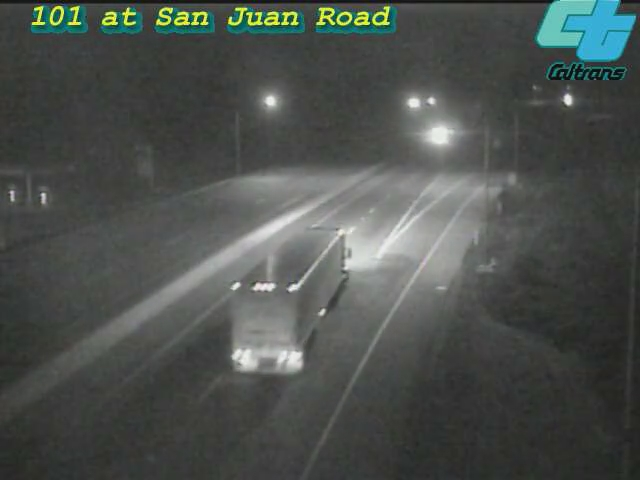vehicle: (232, 279, 312, 359), (413, 110, 463, 160)
